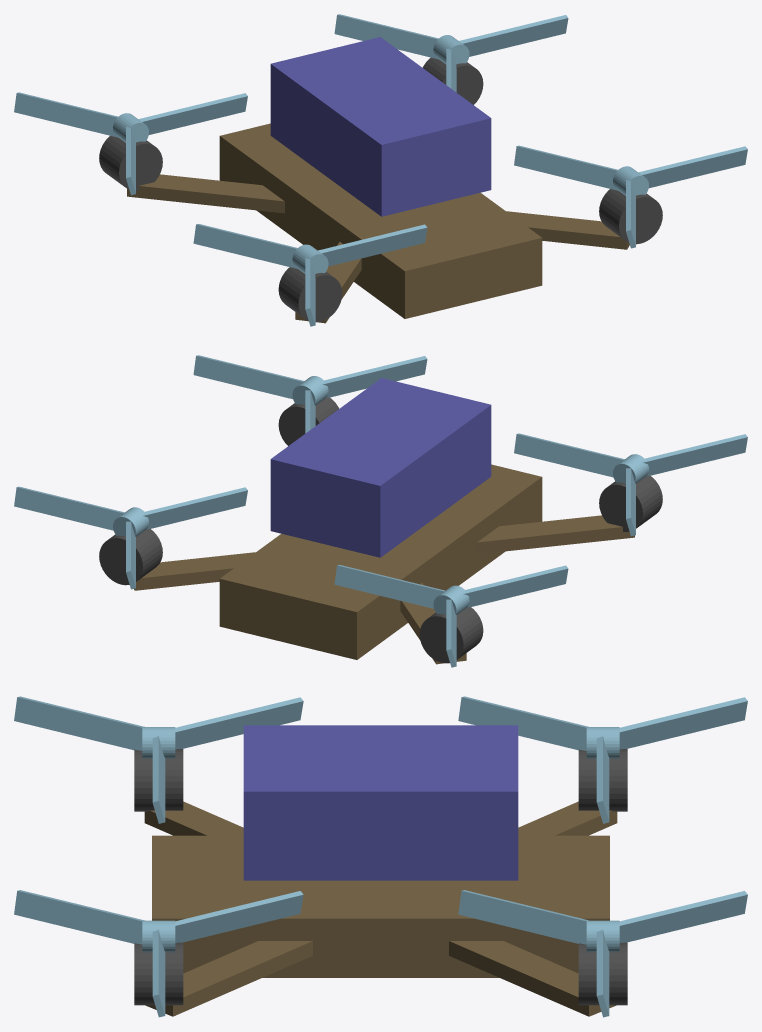
Rendered from Diatone GTB339.glb.
3 renders of one model, top to bottom at view 1: azimuth 30°, elevation 25°; view 2: azimuth 150°, elevation 25°; view 3: azimuth 270°, elevation 25°, orthographic. The views are drawn at different scales.
Visible parts, largest first — view 1: battery, frame_body, prop_2, prop_0, prop_3, prop_1, arm_3, arm_0, motor_2, motor_0, motor_3, motor_1 (+1 smaller); view 2: battery, frame_body, prop_3, prop_1, prop_2, prop_0, arm_2, arm_1, motor_3, motor_1, motor_2, motor_0 (+1 smaller); view 3: battery, frame_body, prop_0, prop_1, prop_2, prop_3, arm_1, arm_0, motor_1, motor_0, motor_3, motor_2 (+2 smaller).
Part boxes in pixels (<box>): battery: <box>270,37,491,216</box>; frame_body: <box>219,123,542,318</box>; prop_2: <box>193,224,427,326</box>; prop_0: <box>514,145,747,248</box>; prop_3: <box>14,92,247,195</box>; prop_1: <box>334,14,568,92</box>; arm_3: <box>127,174,284,213</box>; arm_0: <box>506,211,629,249</box>; motor_2: <box>278,267,342,322</box>; motor_0: <box>599,189,662,244</box>; motor_3: <box>99,135,162,190</box>; motor_1: <box>423,57,483,104</box>; battery: <box>270,378,491,557</box>; frame_body: <box>219,464,542,659</box>; prop_3: <box>334,565,568,667</box>; prop_1: <box>14,486,247,589</box>; prop_2: <box>514,433,747,536</box>; prop_0: <box>193,355,427,433</box>; arm_2: <box>477,515,634,554</box>; arm_1: <box>134,552,255,590</box>; motor_3: <box>419,607,483,663</box>; motor_1: <box>99,529,162,585</box>; motor_2: <box>599,476,662,531</box>; motor_0: <box>278,397,338,445</box>; battery: <box>243,725,518,880</box>; frame_body: <box>152,835,609,977</box>; prop_0: <box>14,890,303,1017</box>; prop_1: <box>458,890,747,1017</box>; prop_2: <box>14,696,303,823</box>; prop_3: <box>458,696,747,823</box>; arm_1: <box>449,941,616,1016</box>; arm_0: <box>145,941,312,1016</box>; motor_1: <box>578,942,627,1005</box>; motor_0: <box>134,942,183,1005</box>; motor_3: <box>578,749,627,811</box>; motor_2: <box>134,749,183,811</box>.
Bounding box in the file's own units: 0.2167 × 0.06 × 0.2243.
